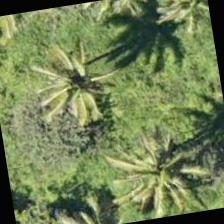Kelapa_Sawit: (27, 40, 130, 142), (100, 123, 205, 223), (150, 0, 213, 45)
